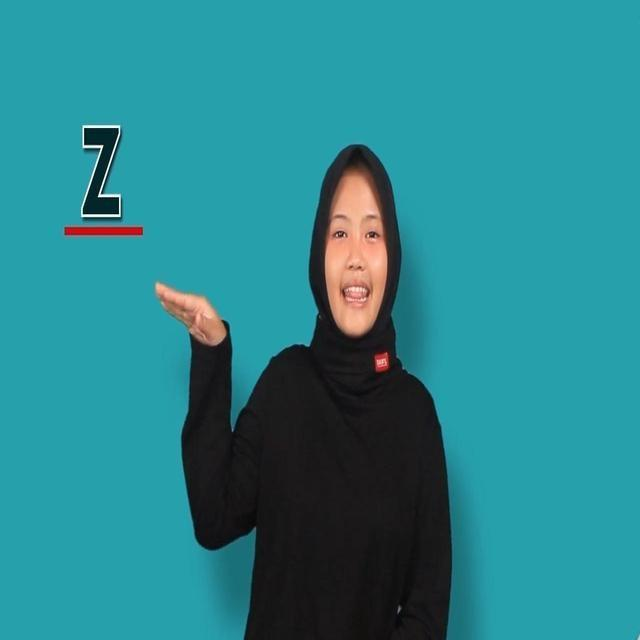Z: (129, 282, 244, 542)
